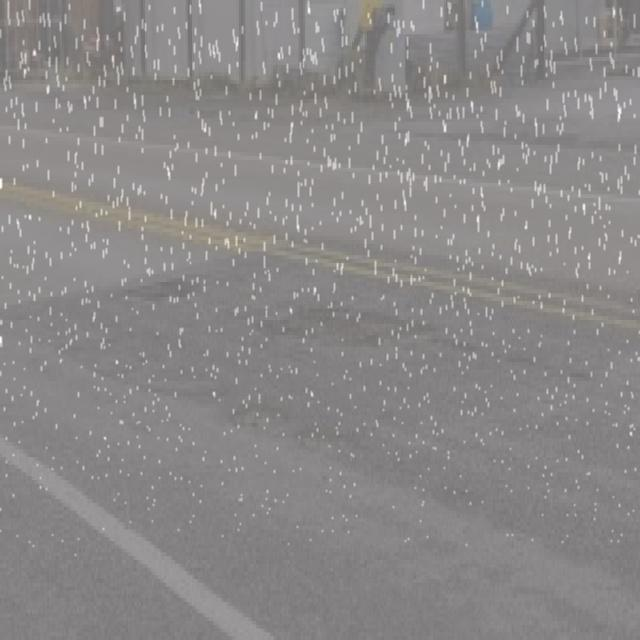Pothole: (257, 286, 454, 385), (125, 264, 238, 323)
